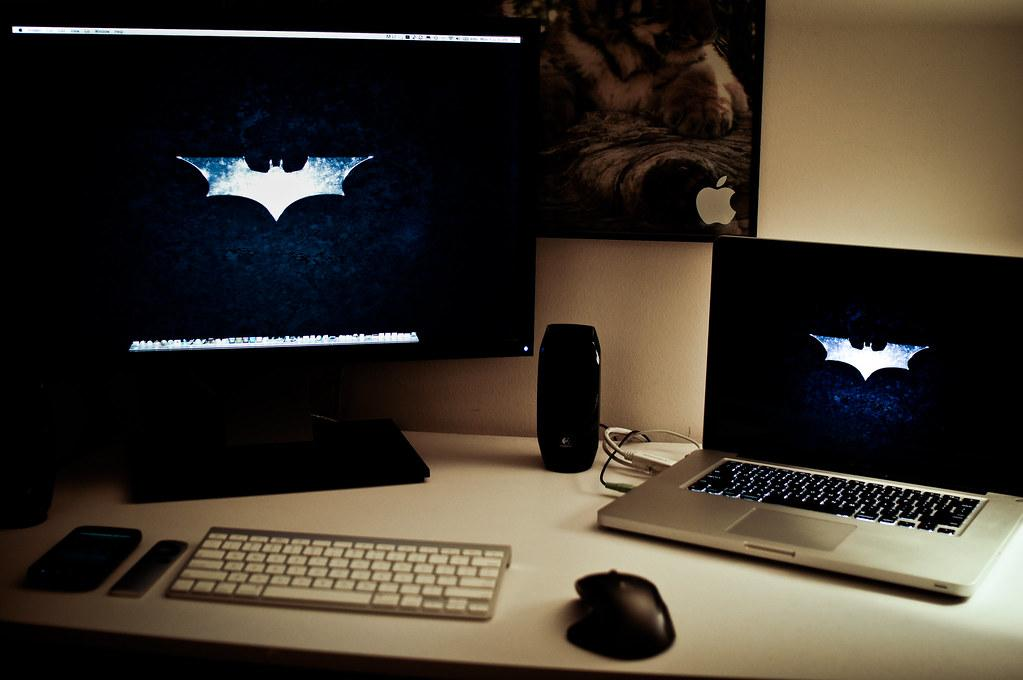computer: (4, 10, 543, 504), (597, 233, 1023, 600)
